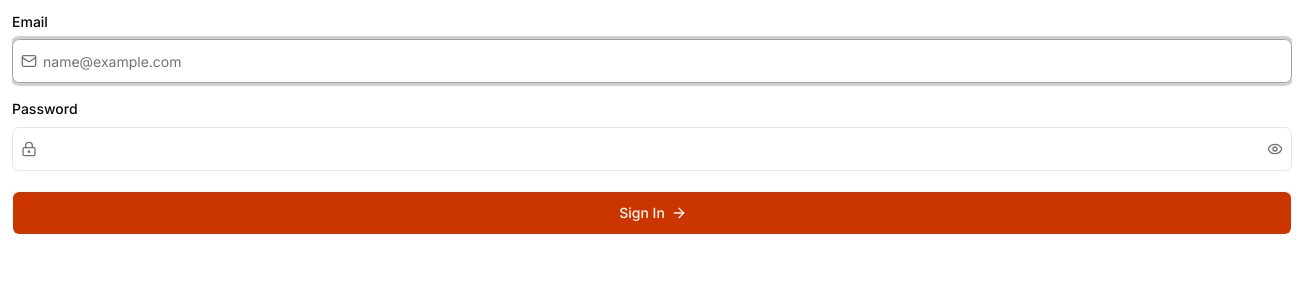
Test case: LoginForm › shows each validation error beside its field and focuses the first
Click the button "Sign In" at [652, 212], box [12,190,1292,234]
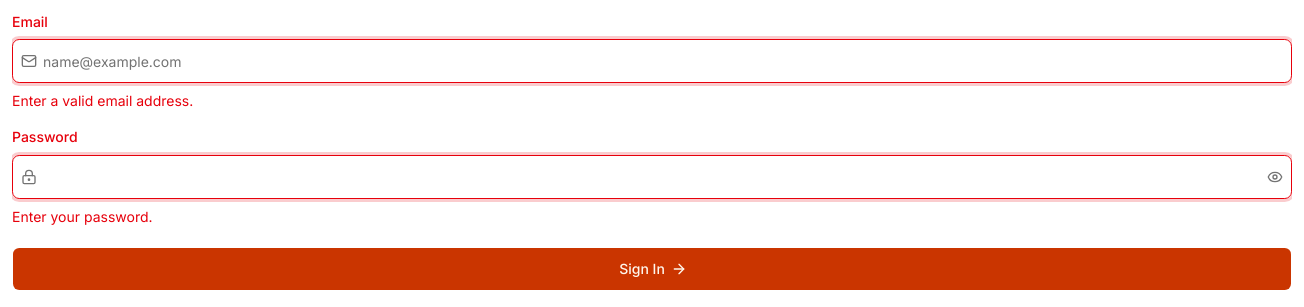
Now the text "Enter your password." is shown, box [12,208,153,224]
